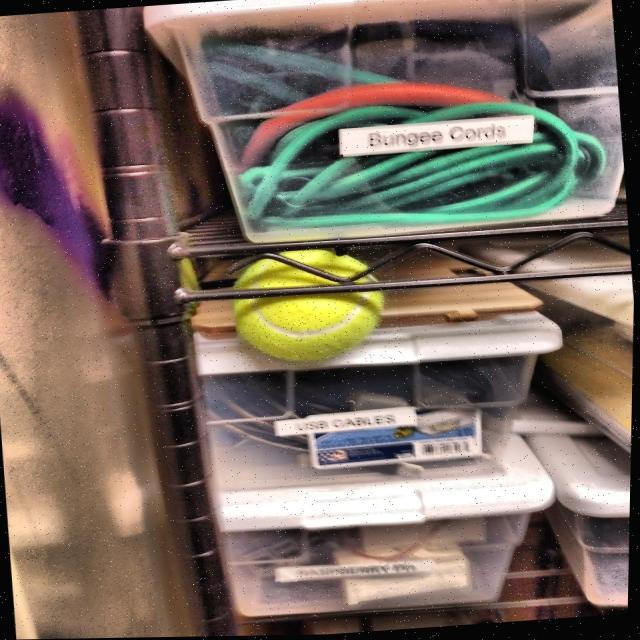tennis-ball: (230, 242, 407, 372)
